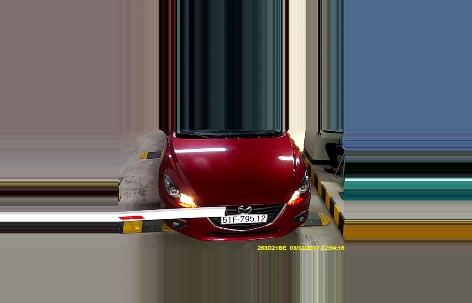plate: (218, 210, 268, 225)
